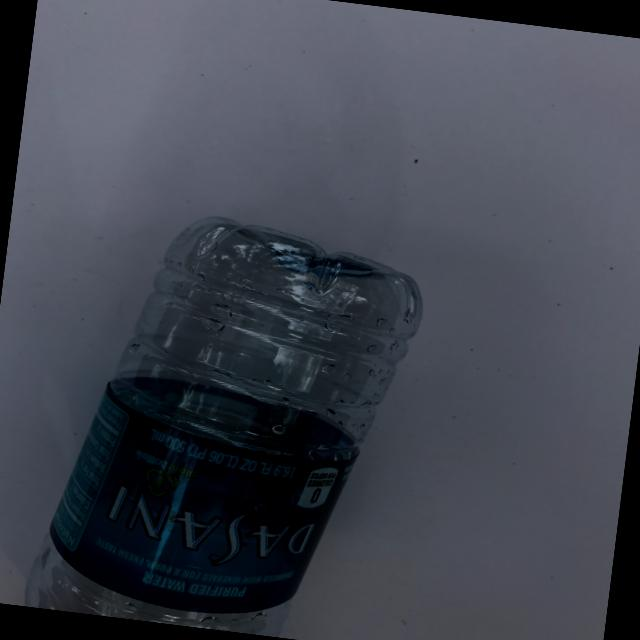Plastic: (0, 171, 473, 640)
